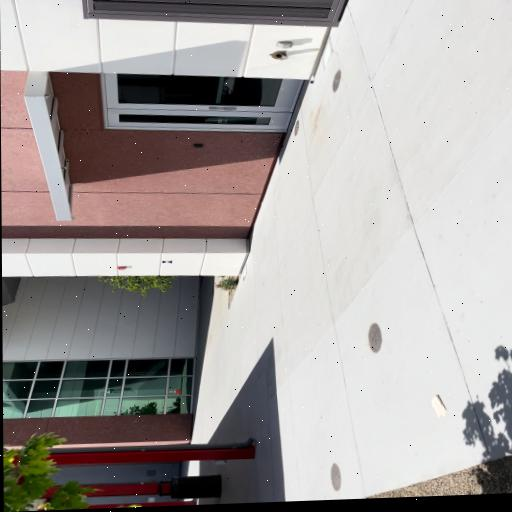target2: (162, 259, 172, 264)
